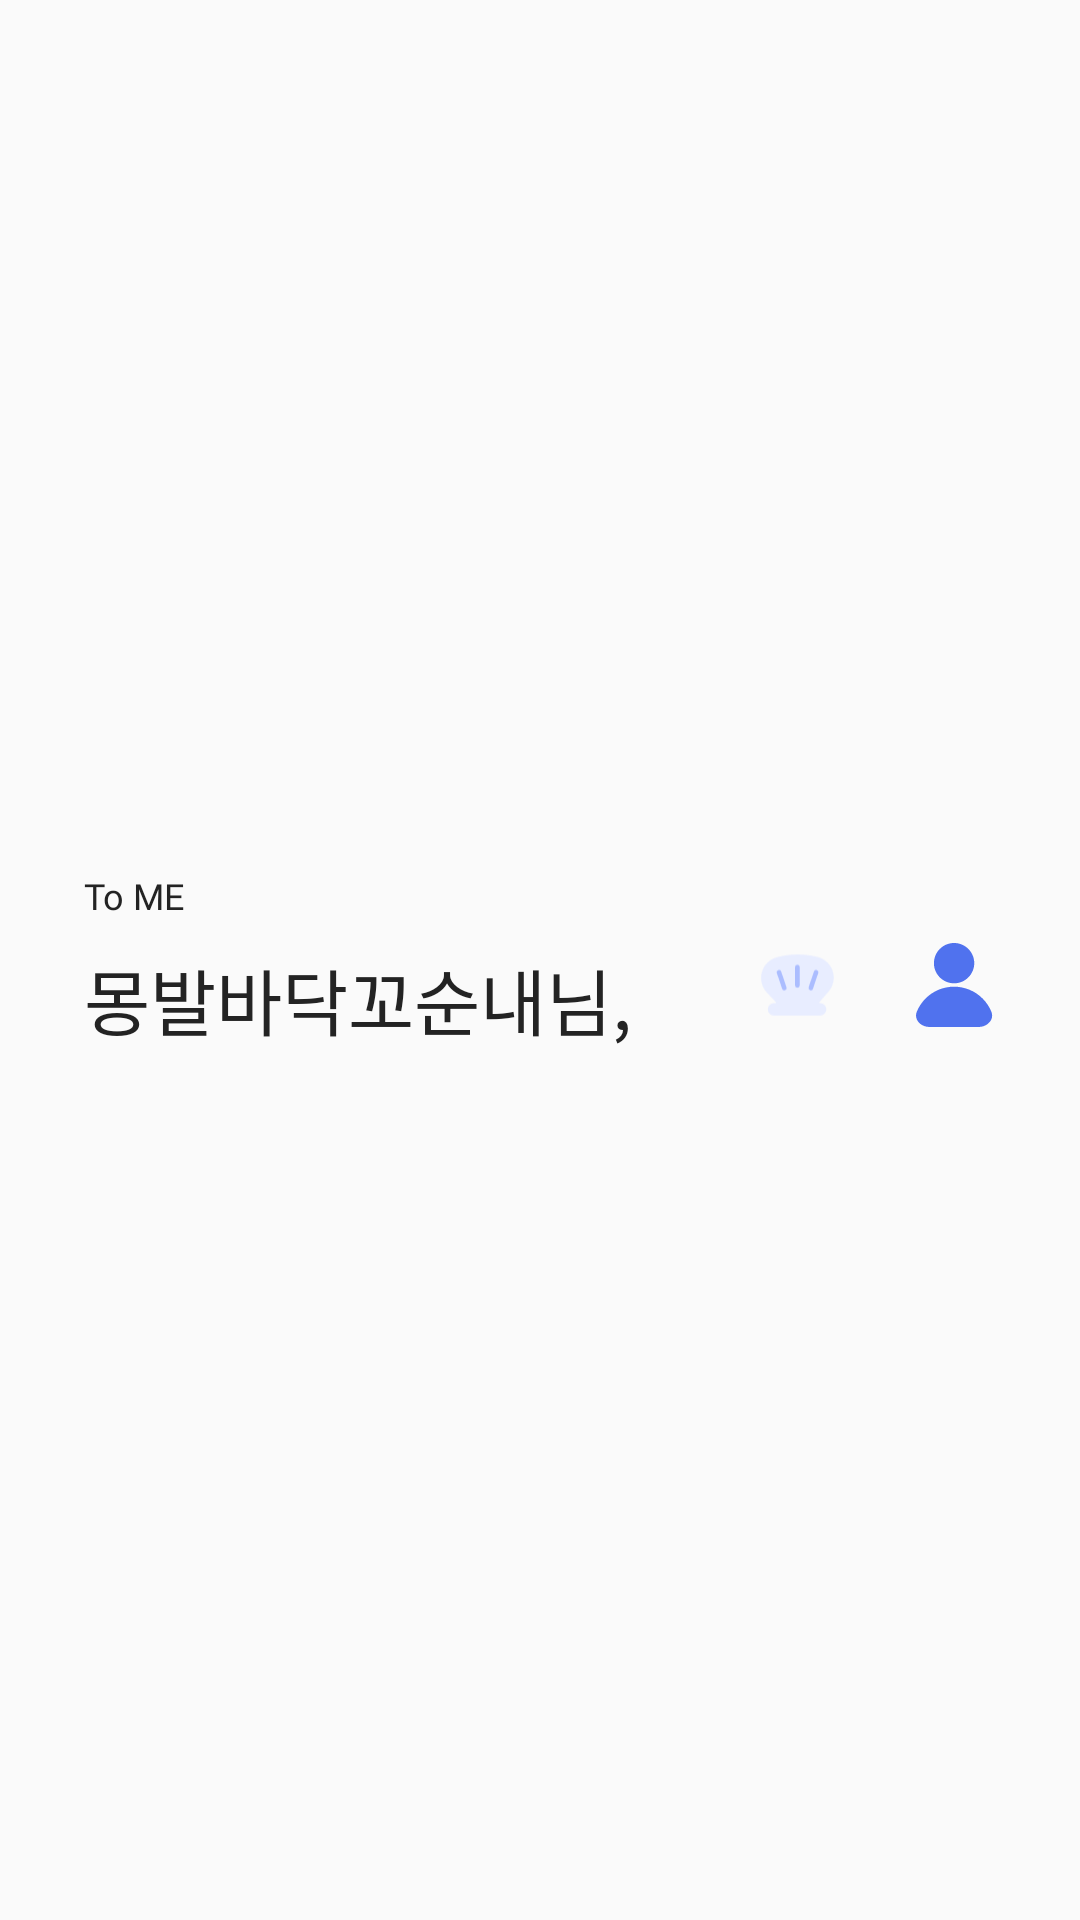

Icon bounding boxes for this 1080×1920 phone screenshot, format (x1,y1,x2,y2):
mypage: (916,943,992,1027)
